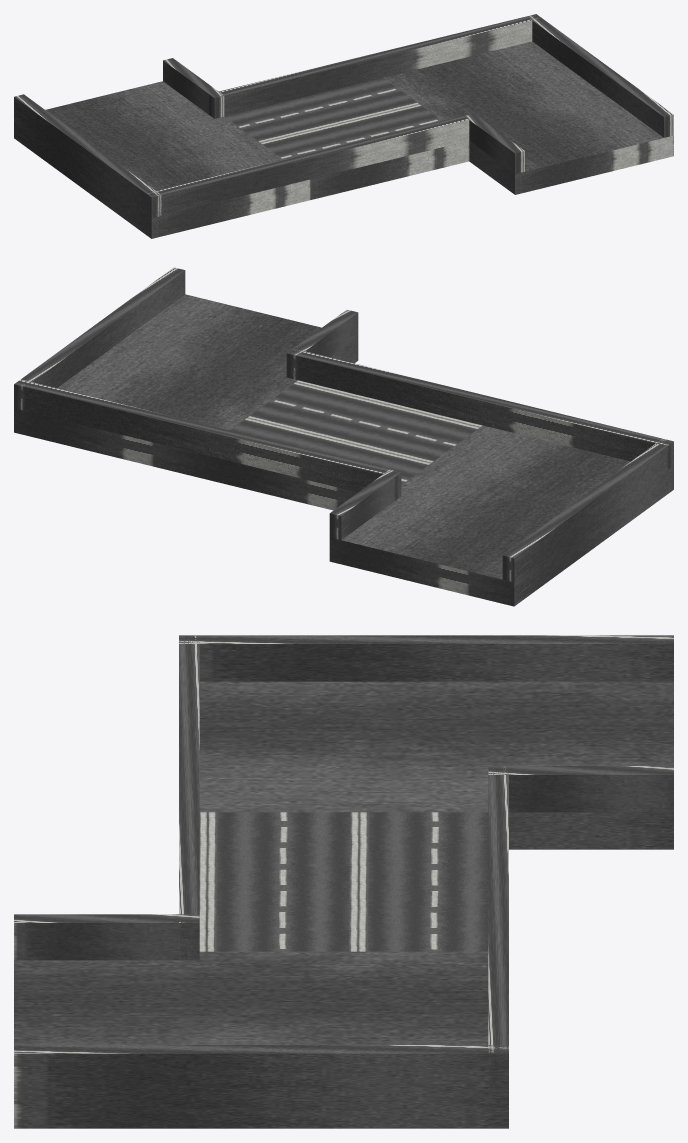
The model's file is L-Zig zag.obj.
3 views of the same model, one above another, from view 1: azimuth 30°, elevation 25°; view 2: azimuth 150°, elevation 25°; view 3: azimuth 270°, elevation 25° (orthographic). The views are drawn at different scales.
Parts seen in each view (by area): view 1: polySurface1; view 2: polySurface1; view 3: polySurface1.
Boxes of the visible parts, left/top/right/bottom form: polySurface1: left=14, top=14, right=673, bottom=238; polySurface1: left=14, top=267, right=673, bottom=606; polySurface1: left=14, top=635, right=673, bottom=1128.
Bounding box in the file's own units: 1890 × 157 × 1260.
1 material, 1 textured.
